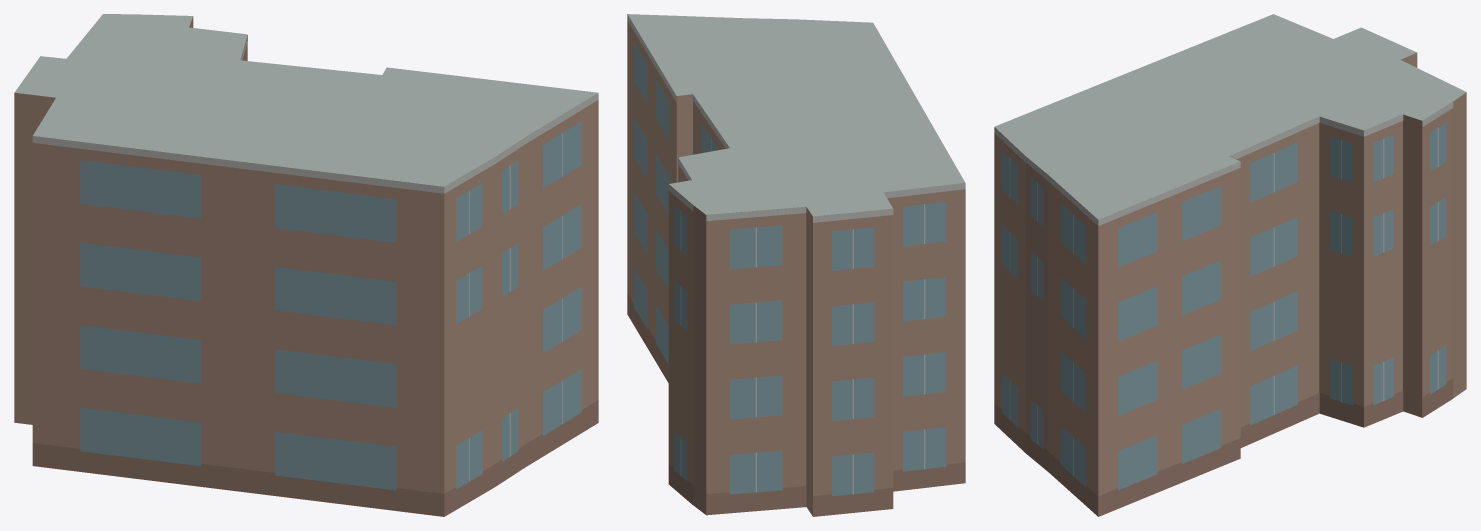
Rendered from survey-upis-33044134.glb.
3 views of the same model, side by side, from view 1: azimuth 30°, elevation 25°; view 2: azimuth 150°, elevation 25°; view 3: azimuth 270°, elevation 25° (orthographic). The views are drawn at different scales.
Parts seen in each view (by area): view 1: survey-upis-33044134.tmp; view 2: survey-upis-33044134.tmp; view 3: survey-upis-33044134.tmp.
Part boxes in pixels (x1,y1,x2,y2): survey-upis-33044134.tmp: [14, 14, 598, 516]; survey-upis-33044134.tmp: [627, 14, 965, 516]; survey-upis-33044134.tmp: [994, 14, 1466, 516].
Bounding box in the file's own units: 17.17 × 11.55 × 16.66.
